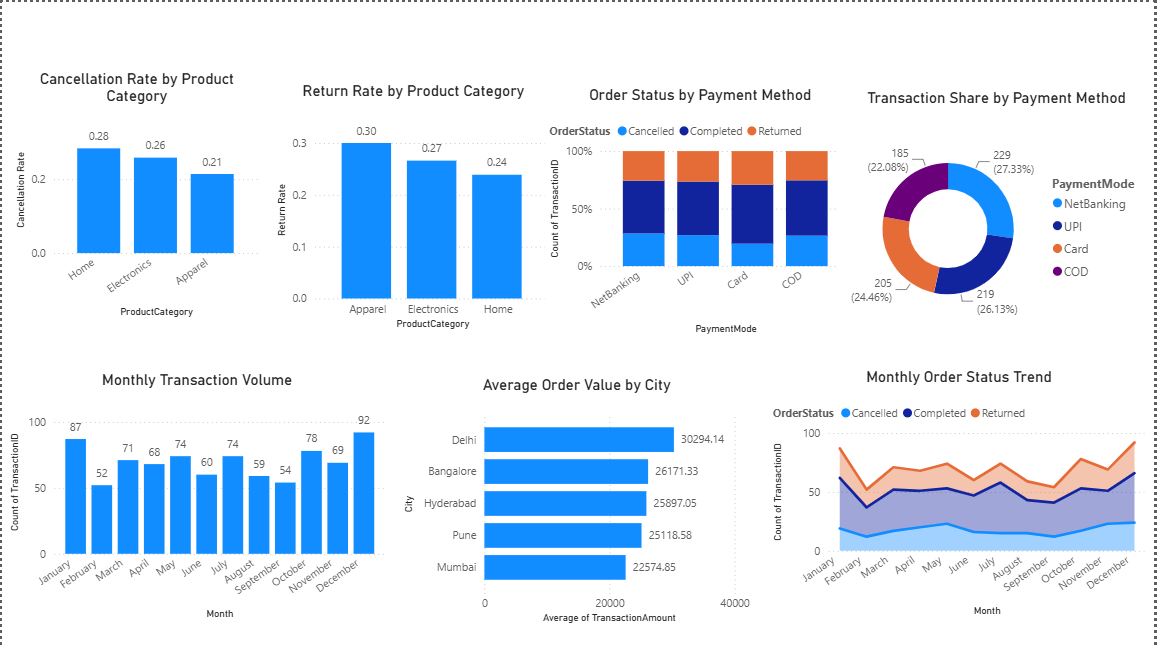

The page's visual inventory and layout, read from the dashboard file:
{"tool":"powerbi","page":{"name":"Order & Operations Analysis","canvas":[1280,720],"ordinal":2},"visuals":[{"type":"clusteredColumnChart","title":"Cancellation Rate by Product Category","fields":{"Category":["Sheet_1___Retail_Transactions.ProductCategory"],"Y":["Sheet_1___Retail_Transactions.Cancellation Rate"]},"box":[10.8,74.5,280,280],"z":0},{"type":"clusteredColumnChart","title":"Return Rate by Product Category","fields":{"Category":["Sheet_1___Retail_Transactions.ProductCategory"],"Y":["Sheet_1___Retail_Transactions.Return Rate"]},"box":[299.6,88.5,314.1,280.1],"z":1},{"type":"hundredPercentStackedColumnChart","title":"Order Status by Payment Method","fields":{"Category":["Sheet_1___Retail_Transactions.PaymentMode"],"Y":["CountNonNull(Sheet_1___Retail_Transactions.TransactionID)"],"Series":["Sheet_1___Retail_Transactions.OrderStatus"]},"box":[602.9,93.4,344.9,280.1],"z":2},{"type":"clusteredColumnChart","title":"Monthly Transaction Volume","fields":{"Category":["Sheet_1___Retail_Transactions.TransactionDate.Variation.Date Hierarchy.Month"],"Y":["CountNonNull(Sheet_1___Retail_Transactions.TransactionID)"]},"box":[3.8,410.7,426.9,280.1],"z":3},{"type":"clusteredBarChart","title":"Average Order Value by City","fields":{"Category":["Sheet_1___Retail_Transactions.City"],"Y":["Avg(Sheet_1___Retail_Transactions.TransactionAmount)"]},"box":[441,414.5,394,280.1],"z":4},{"type":"stackedAreaChart","title":"Monthly Order Status Trend","fields":{"Category":["Sheet_1___Retail_Transactions.TransactionDate.Variation.Date Hierarchy.Month"],"Y":["CountNonNull(Sheet_1___Retail_Transactions.TransactionID)"],"Series":["Sheet_1___Retail_Transactions.OrderStatus"]},"box":[851.2,406.4,423.2,280.1],"z":5},{"type":"donutChart","title":"Transaction Share by Payment Method","fields":{"Category":["Sheet_1___Retail_Transactions.PaymentMode"],"Y":["CountNonNull(Sheet_1___Retail_Transactions.TransactionID)"]},"box":[930.2,96.1,349.8,280.1],"z":6}]}

Visuals, with their boxes in screenshot pixels (x1, y1, x2, y2), scaled from the page's 1280x720 canvas onto the 1160x648 screenshot:
"Cancellation Rate by Product Category" clusteredColumnChart: select_region(10, 67, 264, 319)
"Return Rate by Product Category" clusteredColumnChart: select_region(272, 80, 556, 332)
"Order Status by Payment Method" hundredPercentStackedColumnChart: select_region(546, 84, 859, 336)
"Monthly Transaction Volume" clusteredColumnChart: select_region(3, 370, 390, 622)
"Average Order Value by City" clusteredBarChart: select_region(400, 373, 757, 625)
"Monthly Order Status Trend" stackedAreaChart: select_region(771, 366, 1155, 618)
"Transaction Share by Payment Method" donutChart: select_region(843, 86, 1159, 339)
